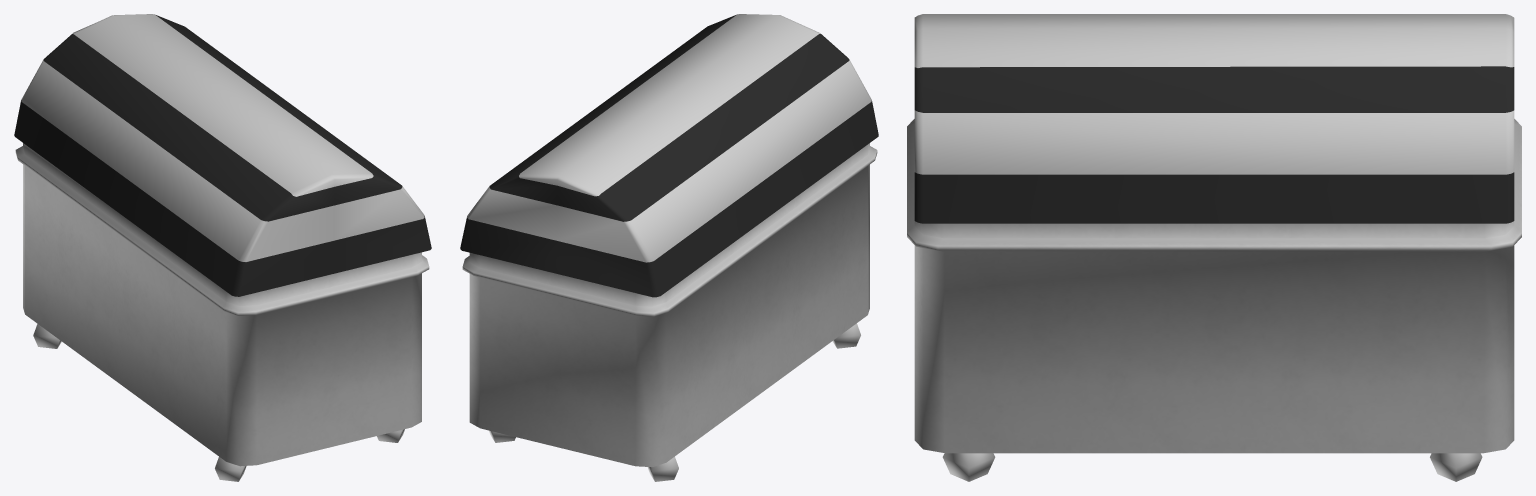
Rendered from chest.fbx.
3 renders of one model, left to right at view 1: azimuth 30°, elevation 25°; view 2: azimuth 150°, elevation 25°; view 3: azimuth 270°, elevation 25°, orthographic. The views are drawn at different scales.
Visible parts, largest first — view 1: chest1, chest; view 2: chest1, chest; view 3: chest1, chest.
Part boxes in pixels (x1=…): chest1: x1=15, y1=143, x2=429, y2=481; chest: x1=14, y1=14, x2=431, y2=296; chest1: x1=462, y1=143, x2=877, y2=481; chest: x1=460, y1=14, x2=878, y2=297; chest1: x1=907, y1=119, x2=1521, y2=481; chest: x1=914, y1=14, x2=1514, y2=223.
Bounding box in the file's own units: 105 × 145 × 205.
